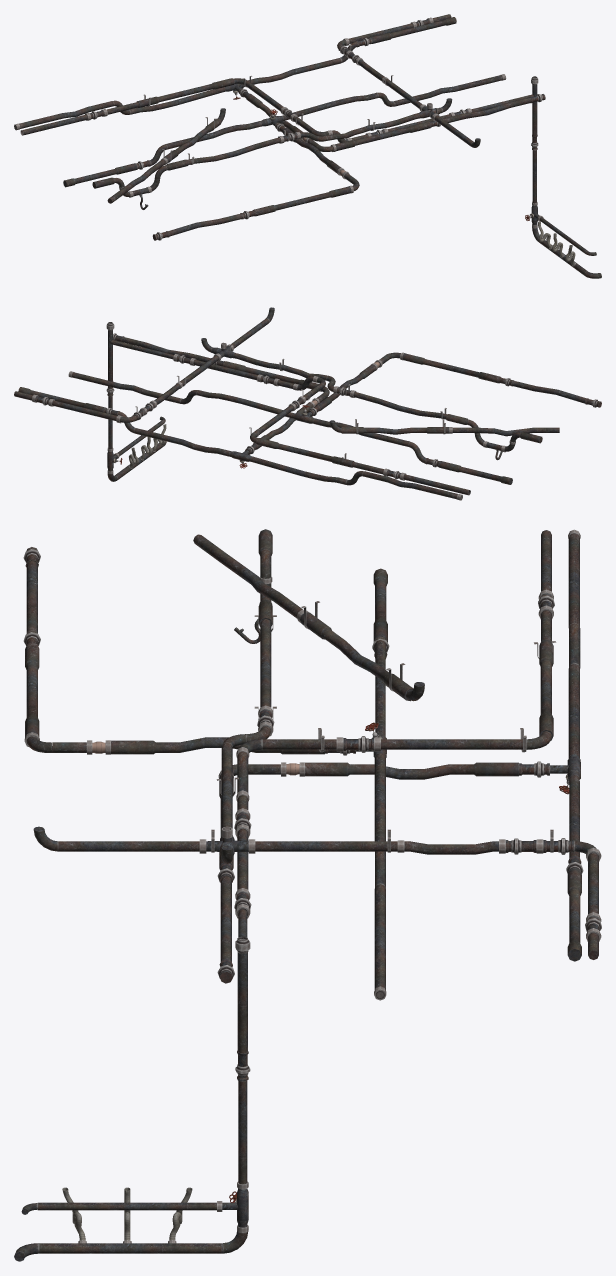
The model's file is Shower_Roof_Set.fbx.
3 renders of one model, top to bottom at view 1: azimuth 30°, elevation 25°; view 2: azimuth 150°, elevation 25°; view 3: azimuth 270°, elevation 25°, orthographic. The views are drawn at different scales.
Visible parts, largest first — view 1: Tube_X_Form_low005, Object177, Tube_X_Form_low002, TubeThin_Long02_low002, TubeThin_Long_low003; view 2: Object177, Tube_X_Form_low005, Tube_X_Form_low002, TubeThin_Long02_low002, TubeThin_Long_low003; view 3: Object177, TubeThin_Long02_low002, Tube_X_Form_low002, Tube_X_Form_low005, TubeThin_Long_low003.
Boxes of the visible parts, x1=… form: Tube_X_Form_low005: x1=63, y1=74, x2=506, y2=240; Object177: x1=20, y1=76, x2=601, y2=278; Tube_X_Form_low002: x1=14, y1=17, x2=545, y2=151; TubeThin_Long02_low002: x1=92, y1=14, x2=480, y2=209; TubeThin_Long_low003: x1=107, y1=108, x2=225, y2=203; Object177: x1=106, y1=322, x2=470, y2=495; Tube_X_Form_low005: x1=68, y1=352, x2=601, y2=484; Tube_X_Form_low002: x1=18, y1=333, x2=462, y2=500; TubeThin_Long02_low002: x1=14, y1=307, x2=542, y2=462; TubeThin_Long_low003: x1=329, y1=419, x2=559, y2=436; Object177: x1=14, y1=530, x2=554, y2=1261; TubeThin_Long02_low002: x1=33, y1=529, x2=601, y2=959; Tube_X_Form_low002: x1=217, y1=529, x2=583, y2=983; Tube_X_Form_low005: x1=23, y1=547, x2=389, y2=1000; TubeThin_Long_low003: x1=193, y1=534, x2=424, y2=701.
Bounding box in the file's own units: 1224 × 430 × 714.
